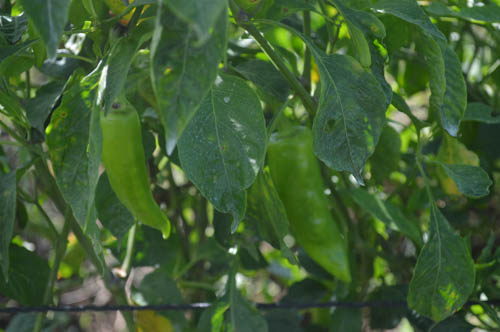ChiliPepper: (267, 131, 350, 281), (99, 109, 168, 243)
